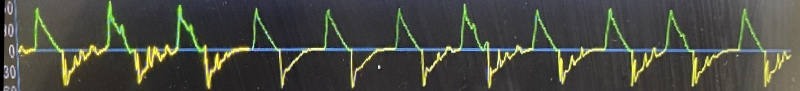hydrop_flow: (409, 2, 798, 91), (16, 0, 249, 91)
normal_flow: (256, 1, 403, 91)
